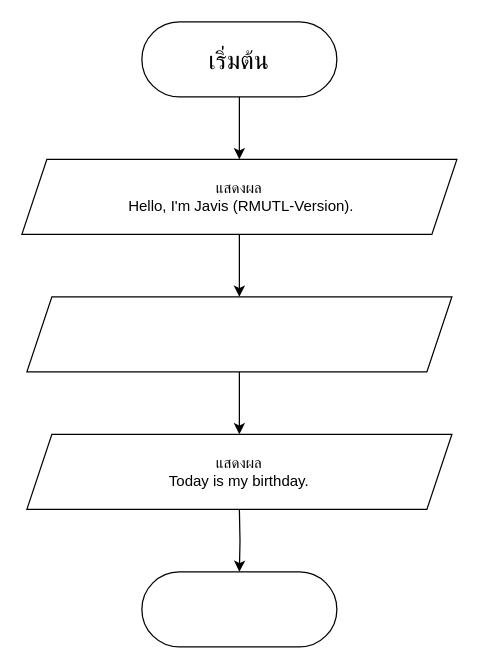
The diagram is 479 pixels wide and 669 high, and some of its shapes have lost their labels. The shapes that lost their labels are listed below. From the top down, each one's centre as x and y in pixels, then its label:
At (x=239, y=334): "แสดงผล This is my first time to coding with C language.".
At (x=239, y=609): "สิ้นสุด".
